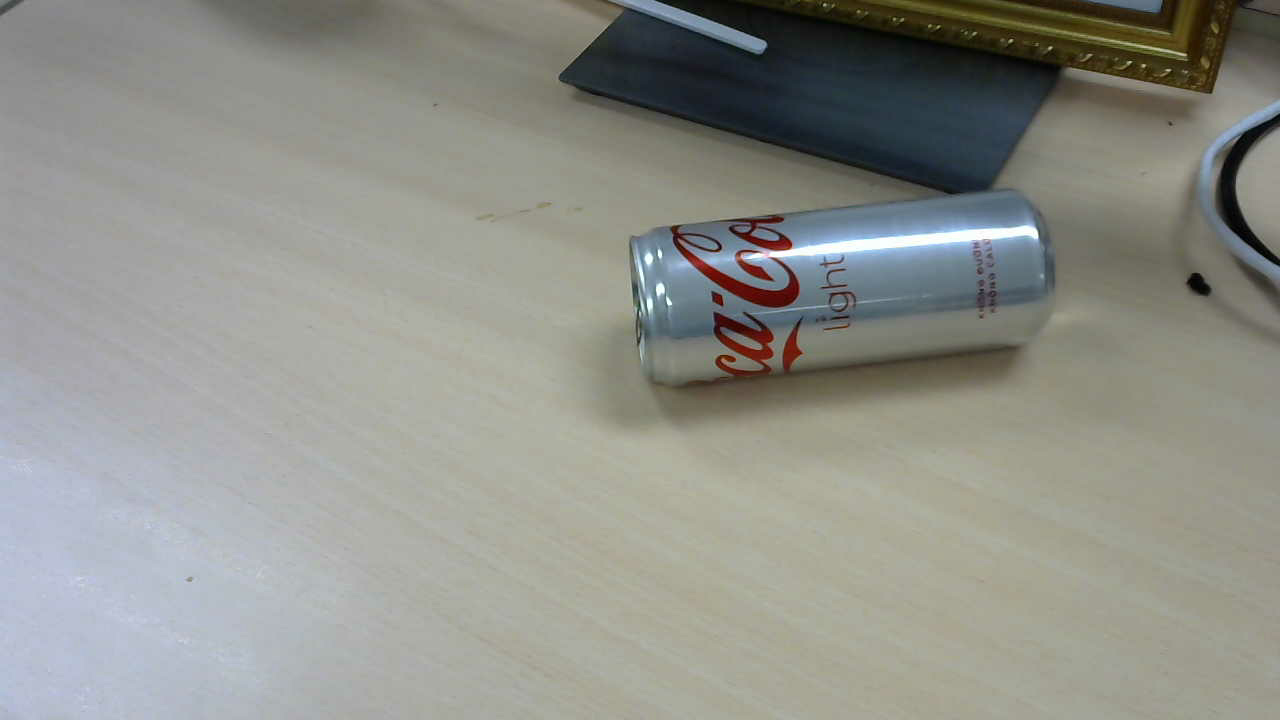Coca_Cola: (634, 191, 1059, 391)
